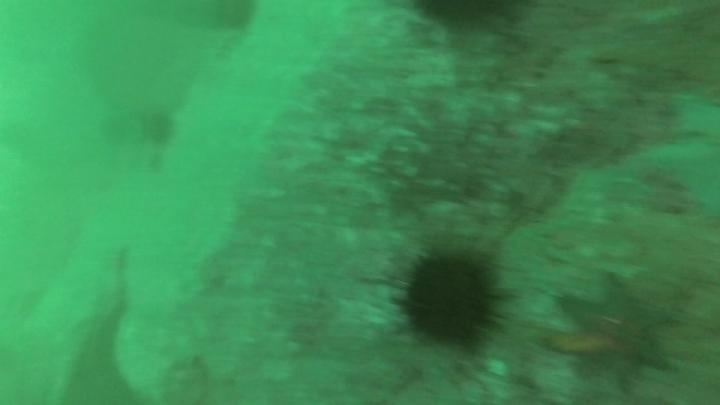echinus: (396, 249, 505, 352), (412, 1, 524, 32), (208, 0, 260, 36), (137, 105, 179, 149)
starfish: (544, 268, 689, 400), (652, 85, 720, 221)
